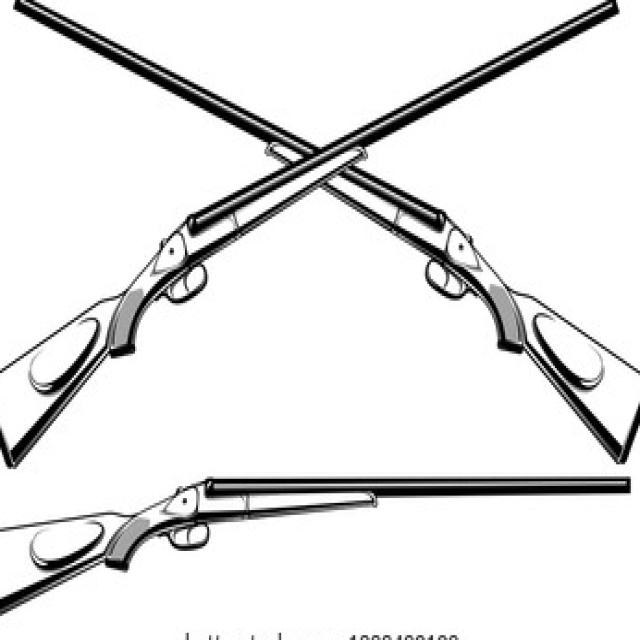Weapon: (0, 101, 429, 460), (0, 479, 629, 613)
